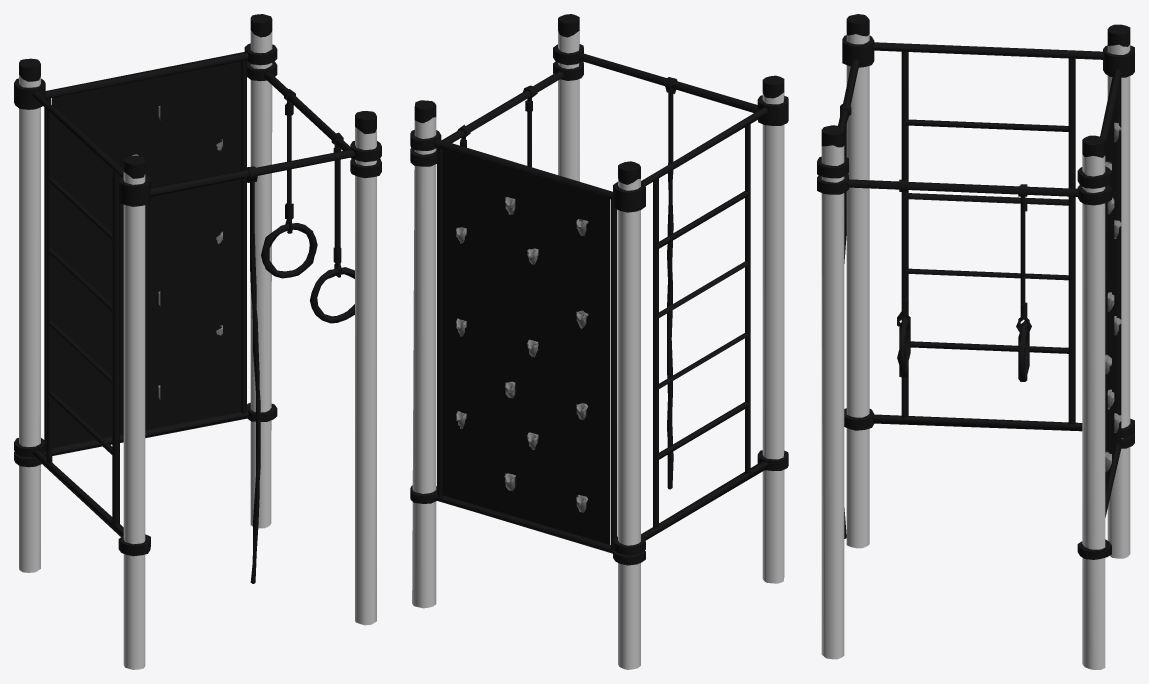
The model's file is Тренажер4.glb.
3 renders of one model, left to right at view 1: azimuth 30°, elevation 25°; view 2: azimuth 150°, elevation 25°; view 3: azimuth 270°, elevation 25°, orthographic. The views are drawn at different scales.
Parts seen in each view (by area): view 1: SM_77_08_0015001_24789_Flora.001; view 2: SM_77_08_0015001_24789_Flora.001; view 3: SM_77_08_0015001_24789_Flora.001.
Part boxes in pixels (left/top/right/bottom): SM_77_08_0015001_24789_Flora.001: left=14, top=14, right=381, bottom=669; SM_77_08_0015001_24789_Flora.001: left=410, top=14, right=788, bottom=669; SM_77_08_0015001_24789_Flora.001: left=817, top=14, right=1134, bottom=669.
Size of the model in its own units: 1.64 by 2.88 by 1.58.
1 material, 1 textured.
